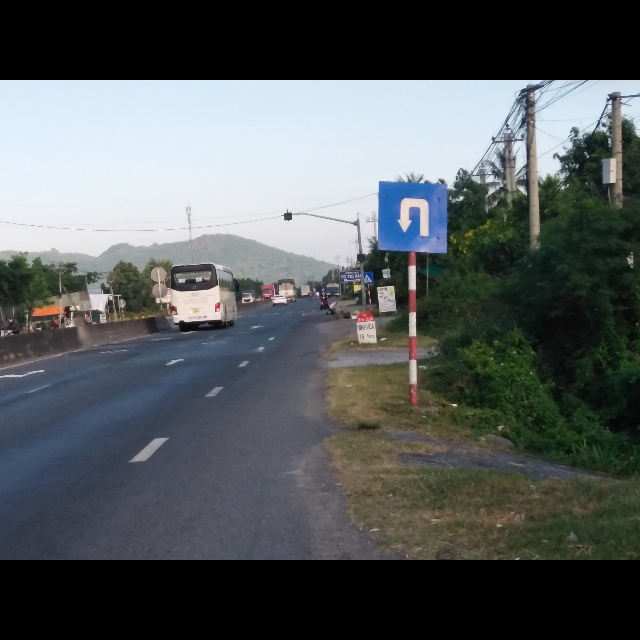Khu vực quay đầu xe: (375, 181, 448, 257)
